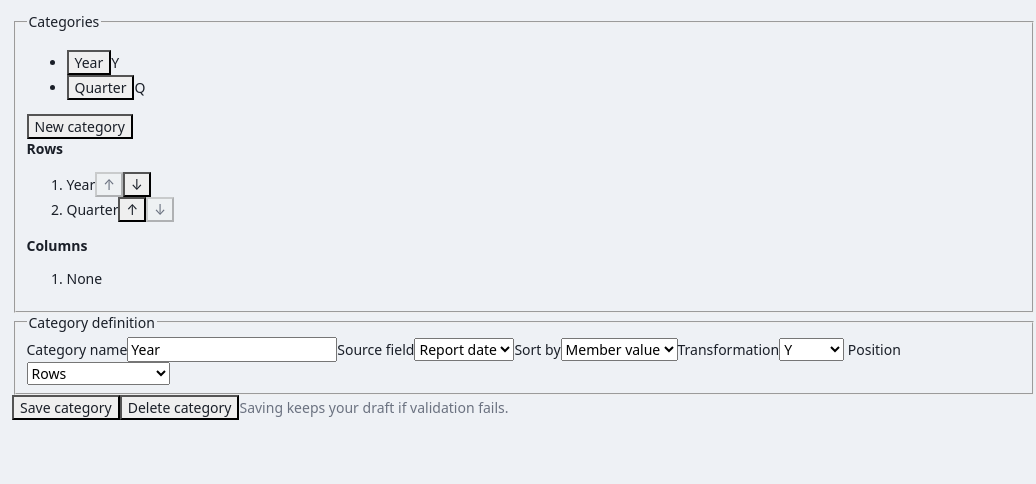
it: retains edits after save failure and emits stable order moves
This screenshot has width=1036, height=484.
Later steps or results of the test are not shown.
Replace the text in the field labelled "Category name" with "Unsaved year": (232, 349) top-left (127, 336), bottom-right (337, 362)
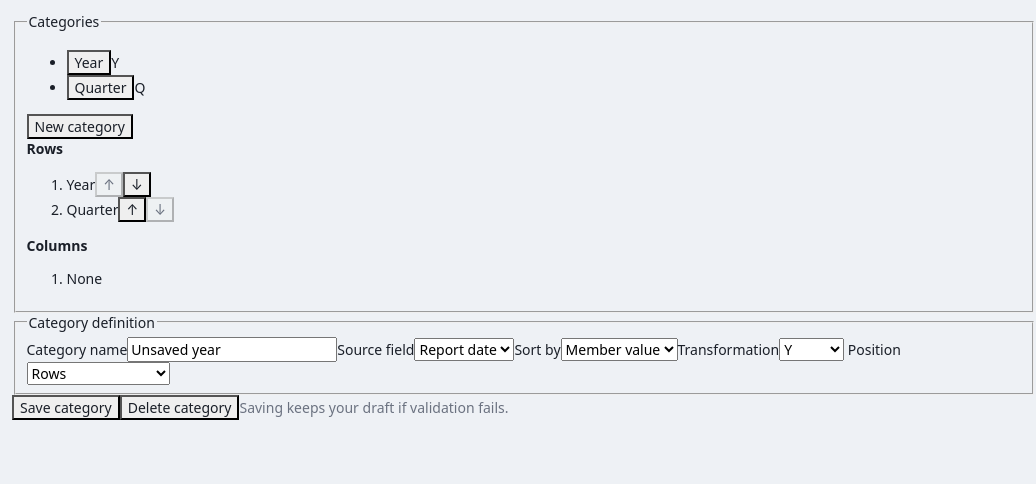
Click the button "Save category": (66, 408) top-left (12, 395), bottom-right (120, 420)
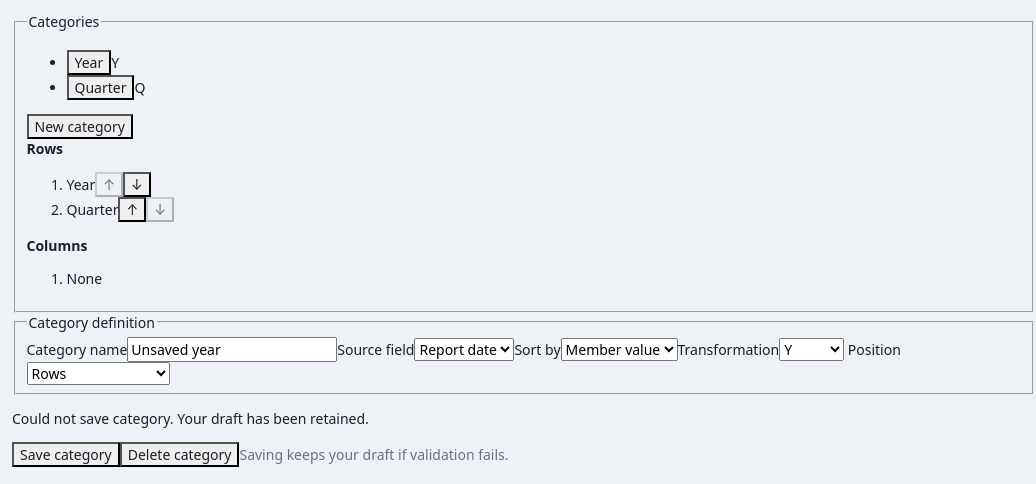
expect the message shows "draft has been retained": met, box top-left (12, 409), bottom-right (369, 428)
